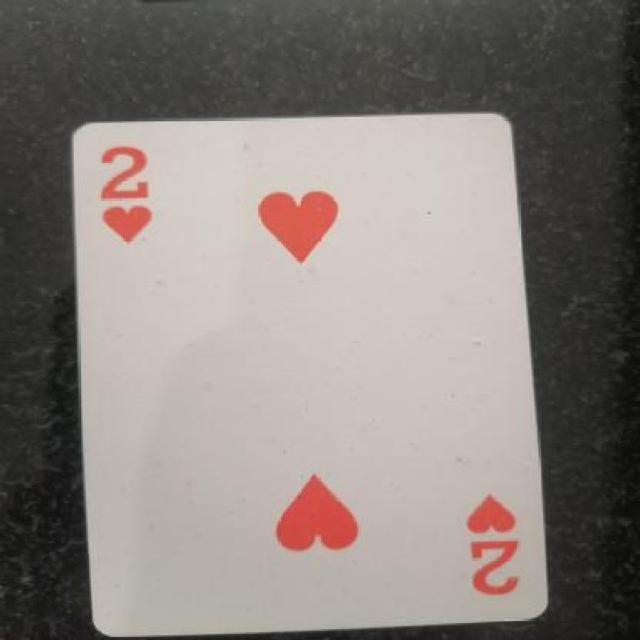2H: (436, 473, 538, 607), (81, 126, 192, 249)
